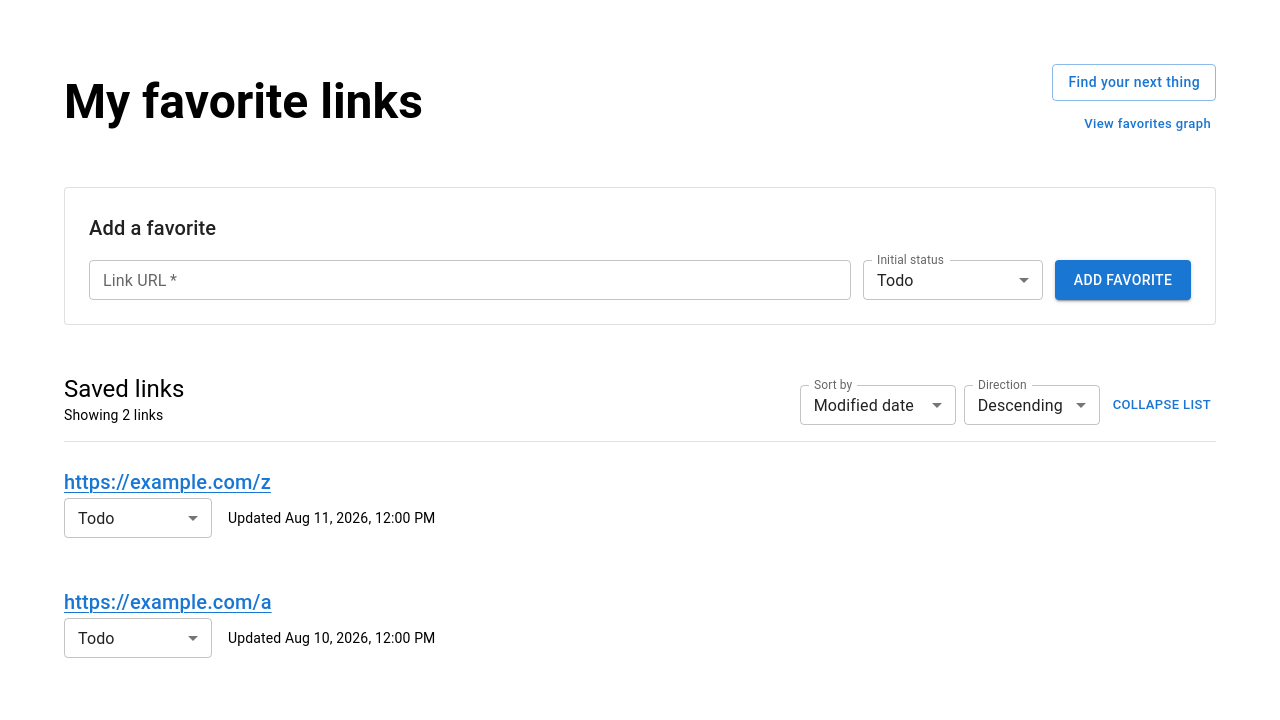
Test case: FavoritesView › collapses the listing and sorts by date or ID
The width and height of the screenshot is (1280, 720).
Check: the links "https://example.com" read "https://example.com/z", "https://example.com/a", in this order, box [64,470,271,494]; [64,590,272,614]
Select "ID" in the dropdown labelled "Sort by" at (878, 405), box [800,385,956,425]
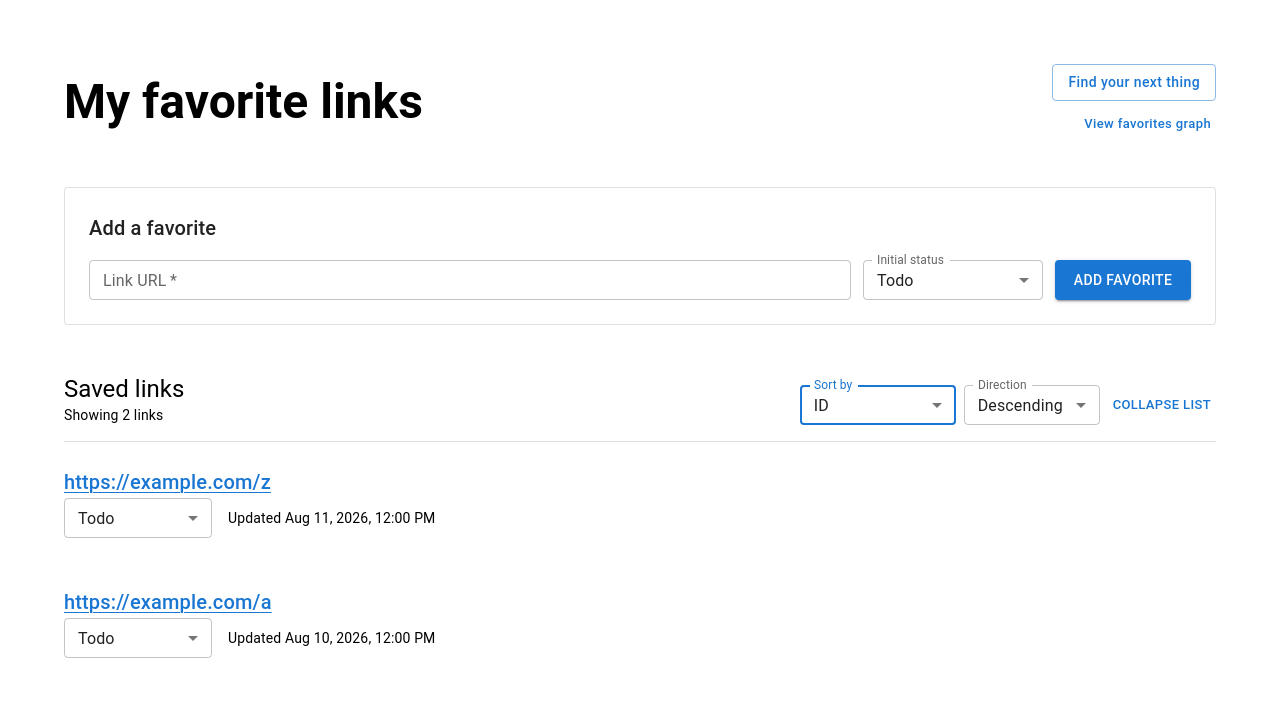
Select "Ascending" in the dropdown labelled "Direction" at (1032, 405), box [964,385,1100,425]
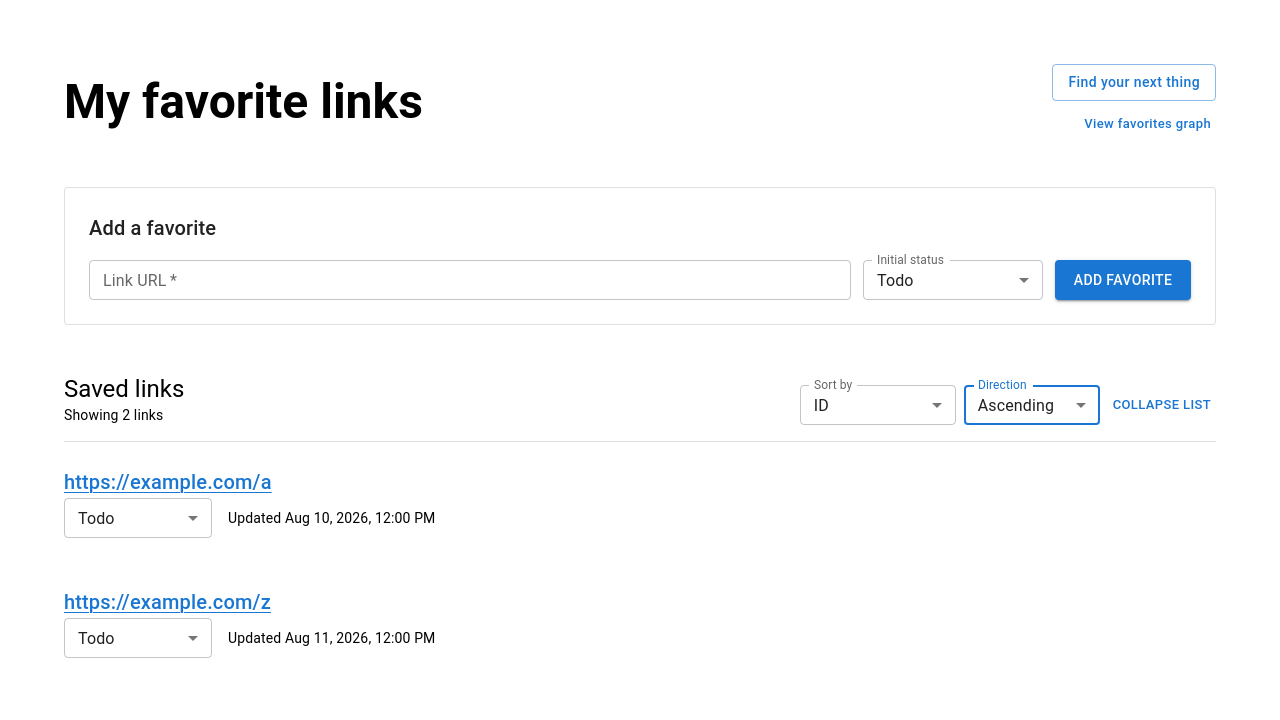
Check: the links "https://example.com" read "https://example.com/a", "https://example.com/z", in this order, box [64,470,272,494]; [64,590,271,614]
Click the button "Collapse list" at (1162, 405), box [1108,390,1216,421]
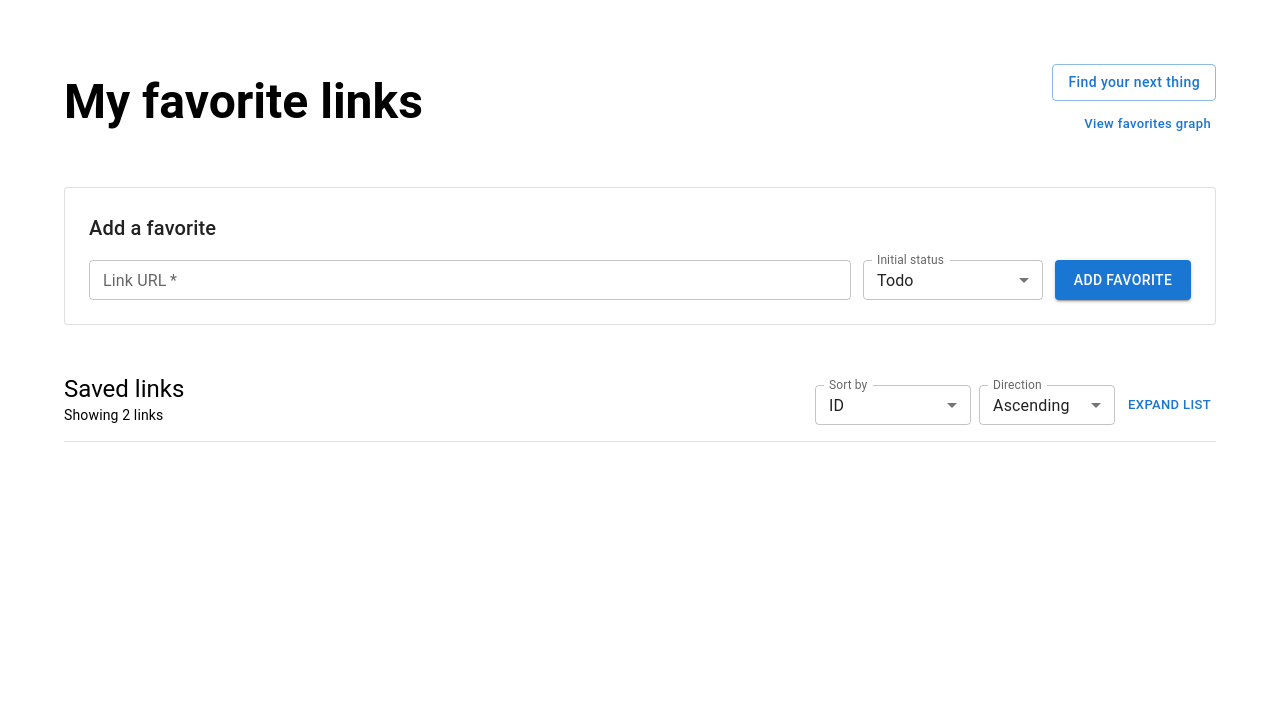
Click the button "Expand list" at (1170, 405), box [1123,390,1216,421]
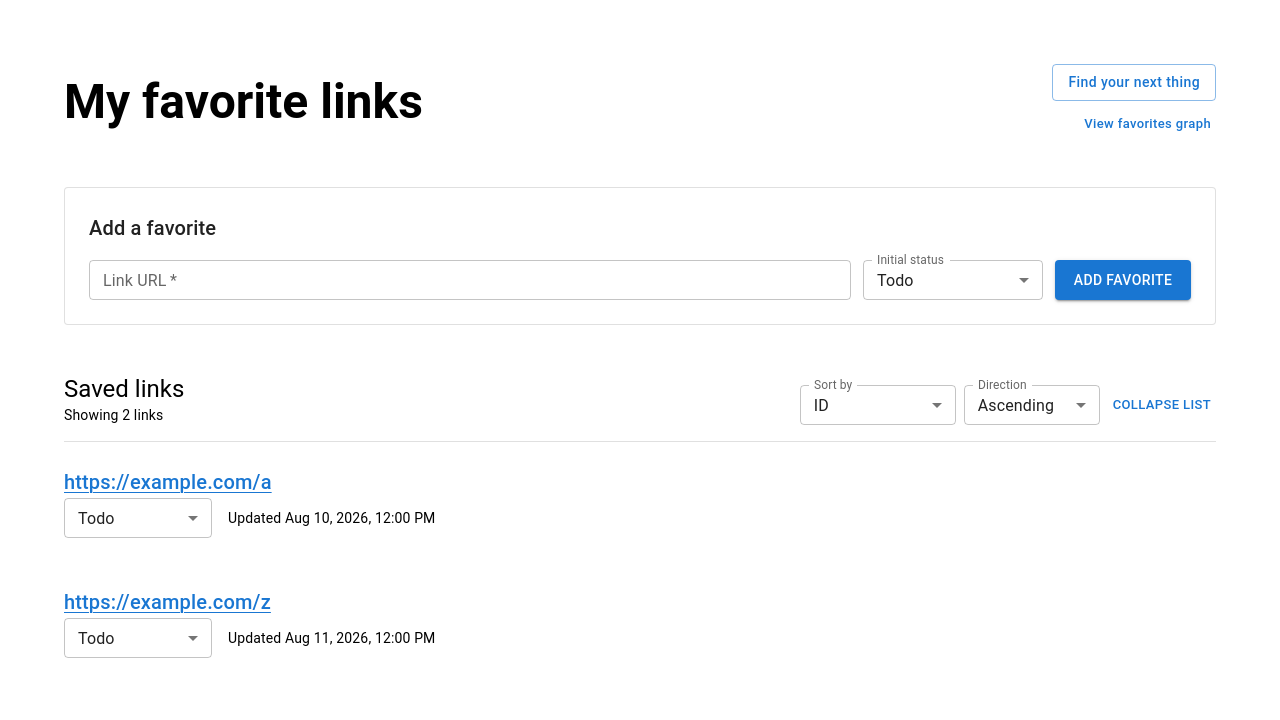
Check: the link "https://example.com/a" is shown, box [64,470,272,494]
